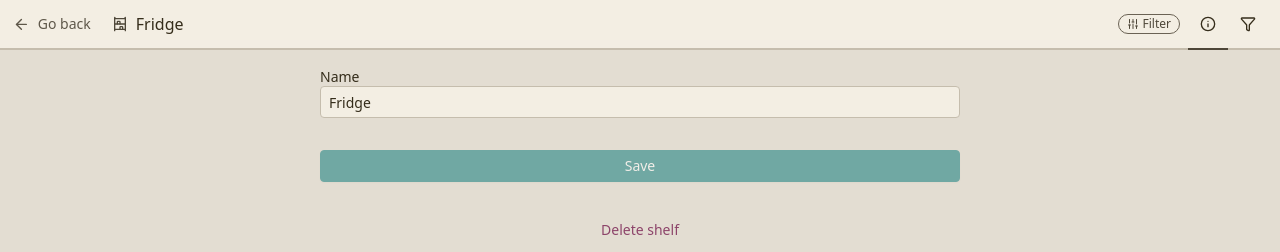
it: Shelf Settings - Info Tab › save button is enabled when name is non-empty and form is dirty
Step 1. Replace the text in the field named "Shelf name" with "Freezer" → (640, 102), box [320,86,960,118]
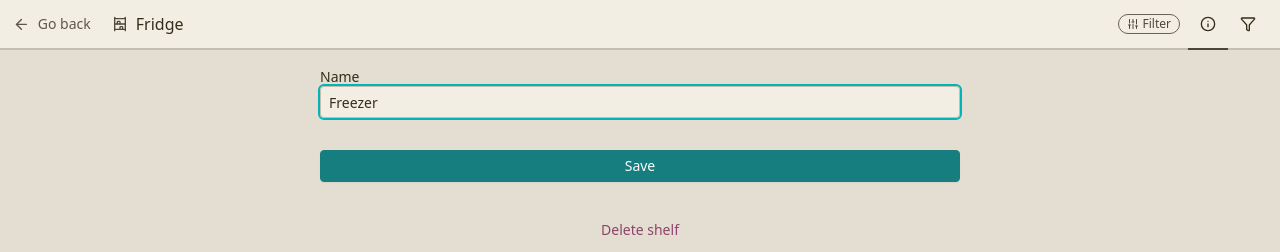
Expected: the button "Save" is enabled, [320,150,960,182]
